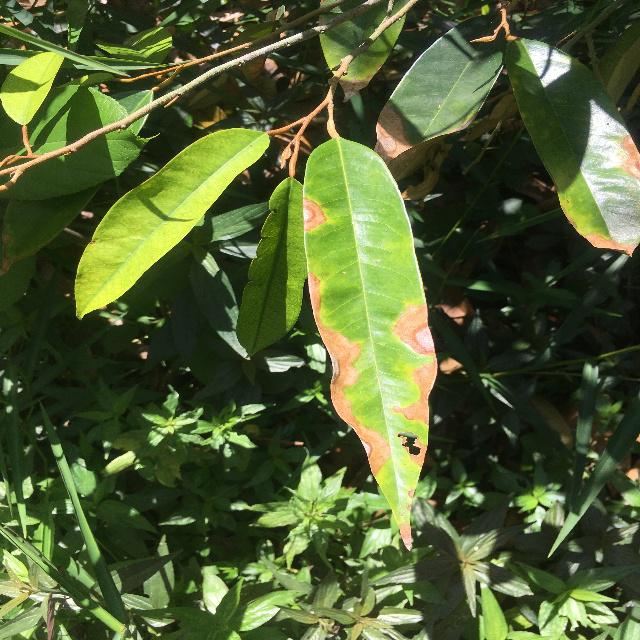Leaf Blight: (295, 133, 446, 553)
